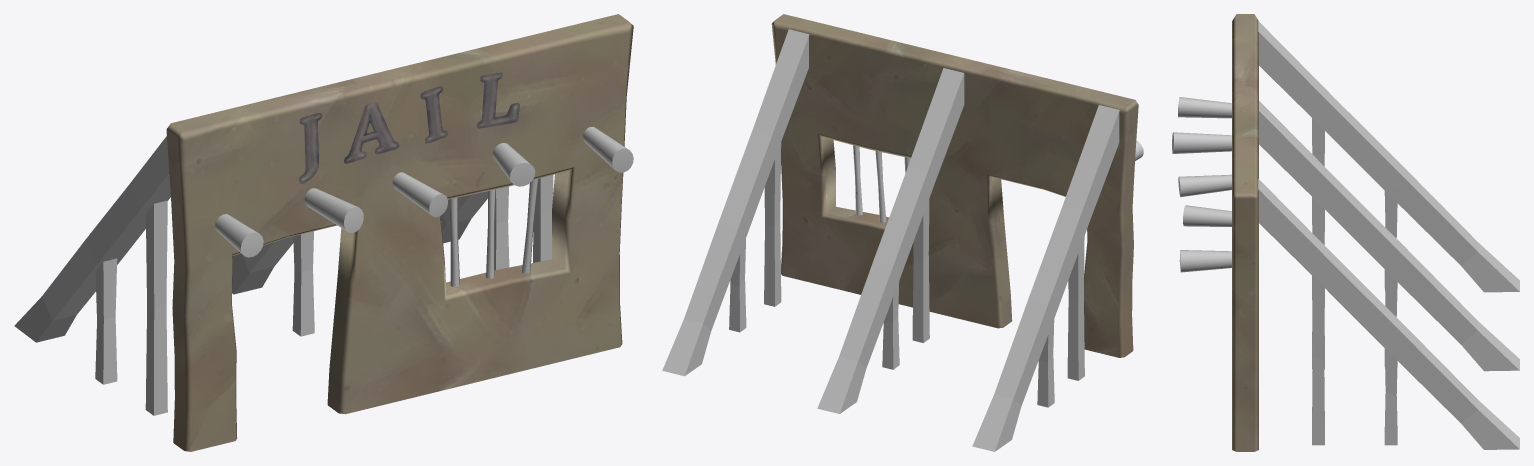
Rendered from Jail.fbx.
The picture shows the model from 3 angles, left to right: view 1: azimuth 30°, elevation 25°; view 2: azimuth 150°, elevation 25°; view 3: azimuth 270°, elevation 25°; orthographic projection. The views are drawn at different scales.
Parts seen in each view (by area): view 1: Jail.001, Cube.003, Cube.009, Cube.005, Cube.011, Cube.010, Plane.002, Cube.008, Cylinder.001, Cylinder.002, Cylinder, Cylinder.004 (+9 smaller); view 2: Jail.001, Cube.003, Cube.010, Cube, Cube.008, Cube.009, Cube.012, Cube.004, Cube.011, Cube.005, Cylinder.007; view 3: Jail.001, Cube.003, Cube, Cube.010, Cube.008, Cylinder.001, Cube.004, Cylinder.004, Cylinder, Cylinder.002, Cylinder.003, Cube.012 (+3 smaller).
Part boxes in pixels (x1,y1,x2,y2): Jail.001: (166, 14, 633, 451); Cube.003: (14, 136, 170, 342); Cube.009: (145, 200, 167, 415); Cube.005: (95, 258, 117, 384); Cube.011: (292, 231, 314, 336); Cube.010: (232, 236, 293, 294); Plane.002: (344, 102, 399, 163); Cube.008: (533, 175, 553, 262); Cylinder.001: (304, 188, 363, 232); Cylinder.002: (392, 172, 447, 217); Cylinder: (215, 214, 263, 257); Cylinder.004: (583, 127, 633, 172); Jail.001: (771, 14, 1138, 357); Cube.003: (972, 105, 1119, 451); Cube.010: (817, 68, 964, 413); Cube: (662, 29, 809, 376); Cube.008: (764, 142, 781, 306); Cube.009: (1067, 236, 1084, 380); Cube.012: (912, 199, 929, 342); Cube.004: (729, 239, 746, 332); Cube.011: (882, 281, 899, 369); Cube.005: (1037, 319, 1054, 407); Cylinder.007: (853, 145, 862, 215); Jail.001: (1232, 14, 1258, 451); Cube.003: (1258, 21, 1519, 292); Cube: (1258, 179, 1519, 449); Cube.010: (1259, 101, 1519, 371); Cube.008: (1312, 276, 1324, 445); Cylinder.001: (1172, 132, 1231, 153); Cube.004: (1384, 348, 1397, 445); Cylinder.004: (1179, 250, 1231, 272); Cylinder: (1178, 97, 1231, 118); Cylinder.002: (1178, 174, 1231, 197); Cylinder.003: (1183, 205, 1231, 226); Cube.012: (1312, 197, 1324, 369).
Bounding box in the file's own units: 600 × 406 × 484.
